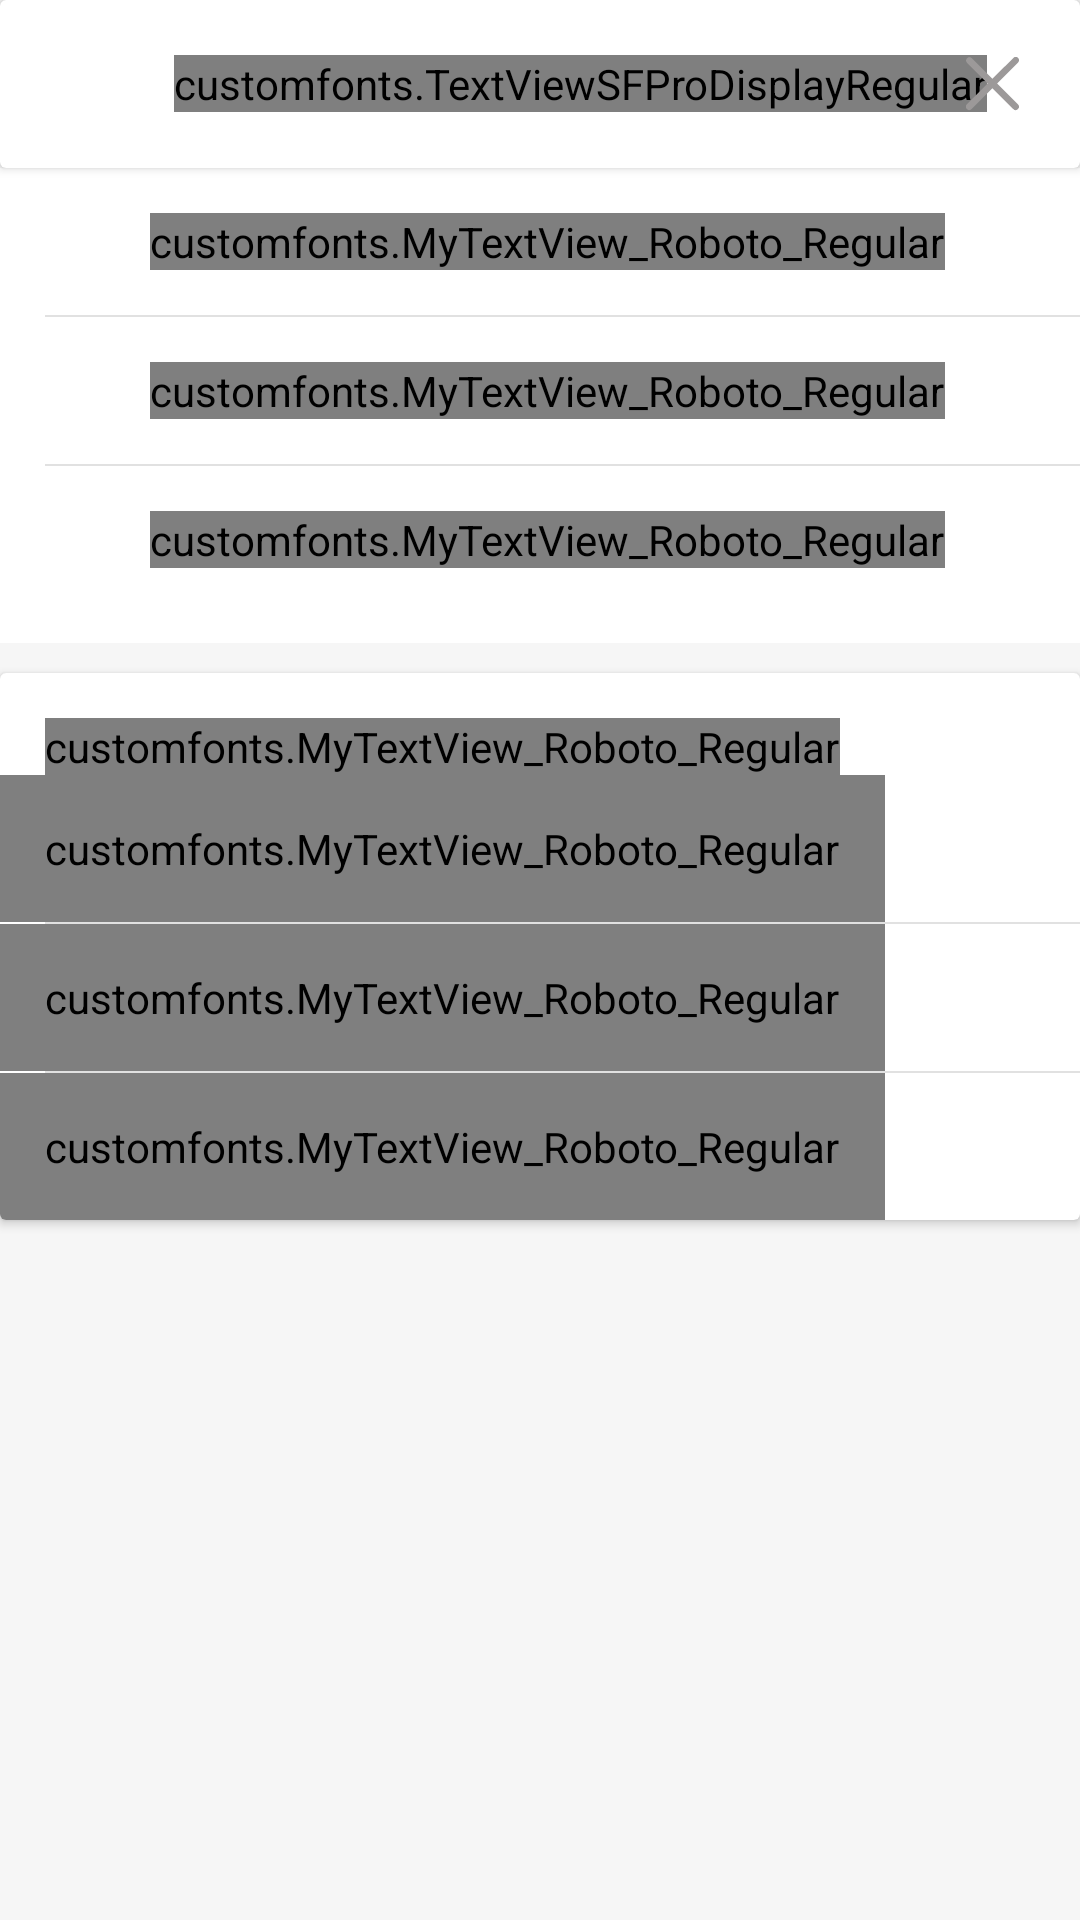

Screen size 1080w x 1920h. Icon name, then its box in pixels as (x1, y1, x2, y2):
cross: (966, 57, 1019, 111)
